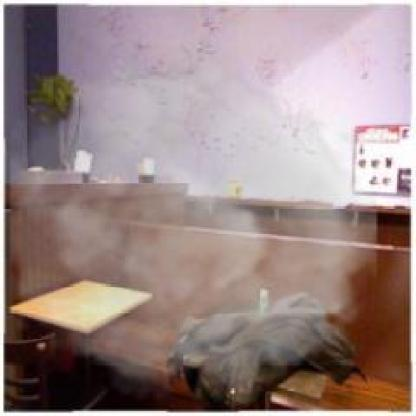Smoke: (10, 39, 377, 408)
